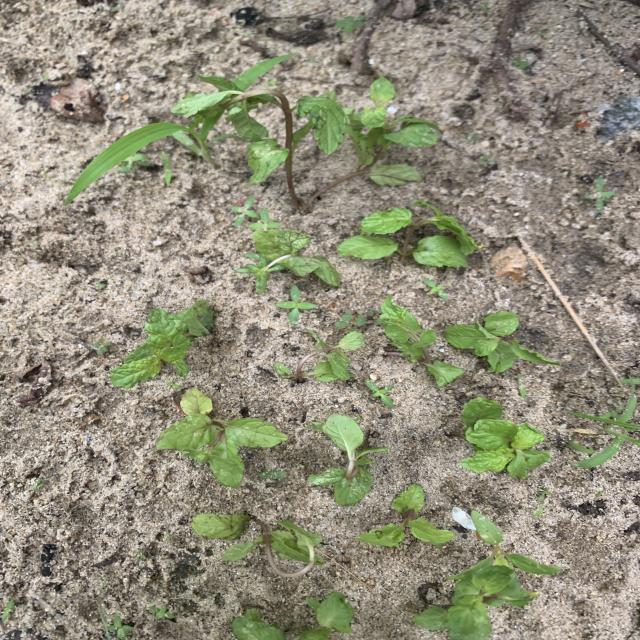crop: (172, 53, 439, 210), (414, 511, 560, 639), (156, 389, 287, 487), (339, 201, 480, 266), (112, 300, 213, 387), (192, 513, 323, 577), (377, 296, 463, 387), (461, 397, 550, 478), (309, 414, 387, 504), (446, 311, 557, 371), (358, 484, 454, 547), (232, 593, 353, 639), (253, 227, 339, 286), (274, 330, 363, 382)
weed: (64, 121, 216, 203), (568, 395, 639, 467), (277, 286, 315, 323), (235, 253, 270, 292), (581, 177, 615, 210), (367, 381, 393, 407), (233, 197, 257, 225), (249, 209, 279, 231), (105, 615, 131, 639), (337, 310, 372, 327), (335, 15, 367, 31), (424, 279, 447, 299), (149, 606, 174, 619), (92, 338, 111, 354), (162, 152, 171, 185), (1, 599, 14, 620), (260, 469, 286, 479), (513, 57, 530, 70), (536, 488, 549, 500), (478, 154, 495, 163), (621, 378, 639, 386), (532, 509, 543, 517), (594, 492, 603, 498), (97, 283, 104, 288)
